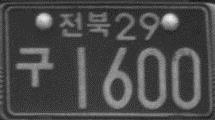0: (135, 46, 168, 110), (170, 46, 201, 110)
1: (75, 45, 89, 111)
2: (114, 11, 138, 40)
6: (101, 46, 133, 109)
9: (138, 10, 161, 42)
구: (15, 46, 54, 88)
전북_O: (58, 9, 110, 40)
